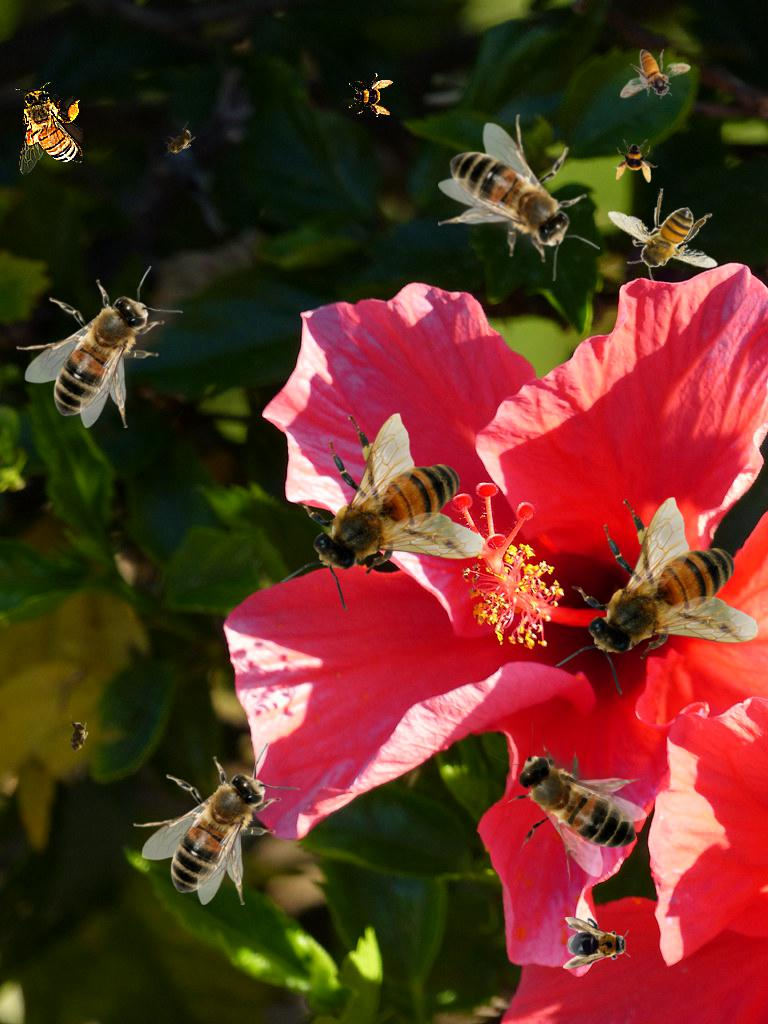Bee: (280, 413, 484, 612), (555, 497, 759, 696), (16, 266, 183, 428), (133, 743, 300, 905), (438, 114, 600, 281), (487, 720, 649, 887), (607, 188, 718, 282), (15, 82, 83, 175), (620, 49, 691, 99), (563, 917, 631, 969), (348, 72, 394, 118), (614, 139, 658, 183), (156, 121, 202, 163), (62, 715, 92, 759)
